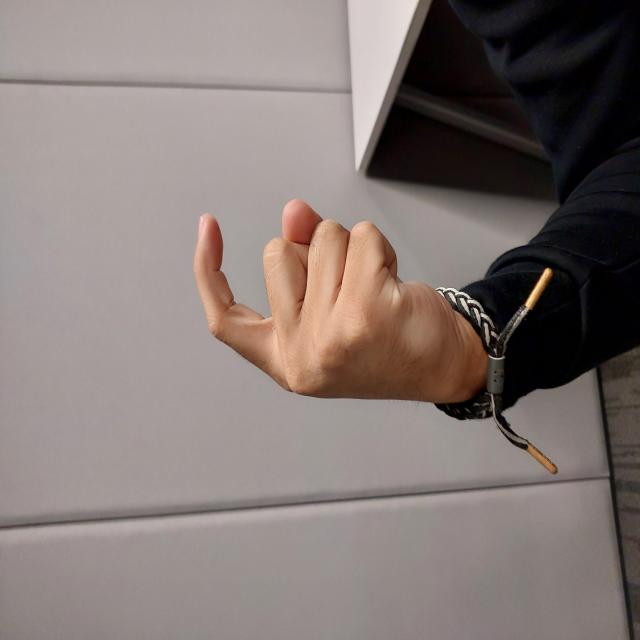X: (236, 192, 444, 467)
